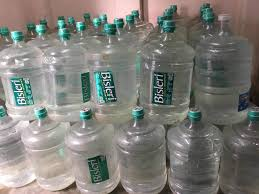Bisleri: (96, 72, 120, 106), (8, 76, 30, 109), (153, 71, 171, 111), (80, 76, 97, 109), (89, 160, 110, 183)
plastic: (203, 43, 251, 119), (25, 129, 81, 192), (175, 132, 222, 193), (46, 56, 93, 114), (122, 124, 163, 189)
